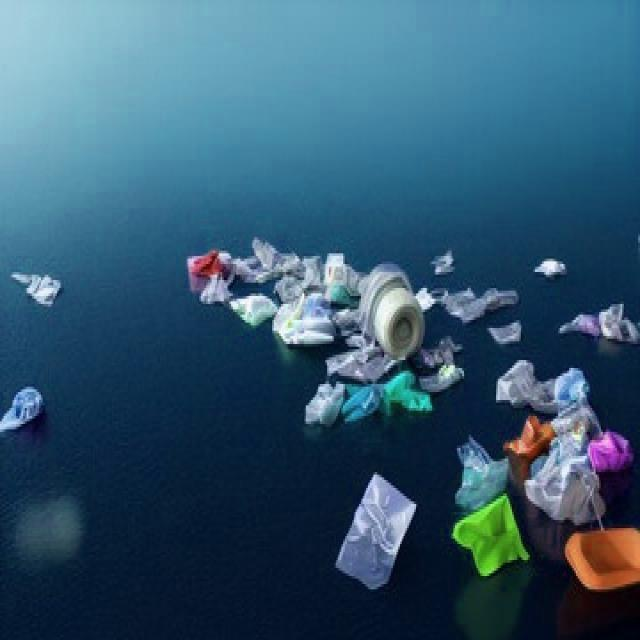Trash: (329, 469, 419, 594), (528, 415, 610, 524), (453, 486, 530, 594), (358, 258, 424, 355), (562, 526, 640, 595), (454, 436, 514, 509), (502, 416, 558, 485), (278, 294, 336, 352), (494, 361, 556, 415), (441, 284, 523, 324), (381, 367, 438, 422), (0, 381, 52, 440), (305, 248, 356, 302), (296, 376, 348, 428), (6, 269, 68, 311), (550, 362, 596, 414), (585, 432, 638, 477), (180, 243, 227, 292), (248, 239, 298, 283), (598, 297, 640, 348), (227, 286, 275, 330), (346, 375, 385, 425), (420, 356, 465, 392), (196, 278, 239, 312), (417, 334, 466, 362), (427, 244, 463, 277), (533, 256, 568, 286), (483, 322, 528, 343), (562, 316, 594, 334)
